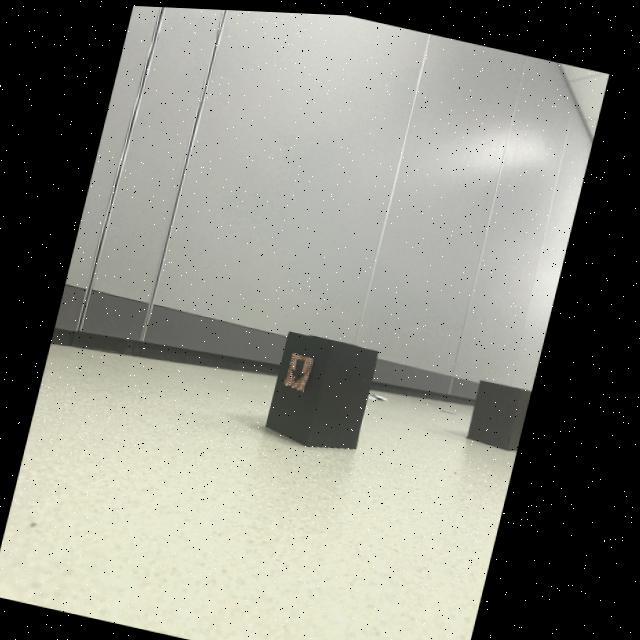DOWN: (297, 356, 311, 379)
